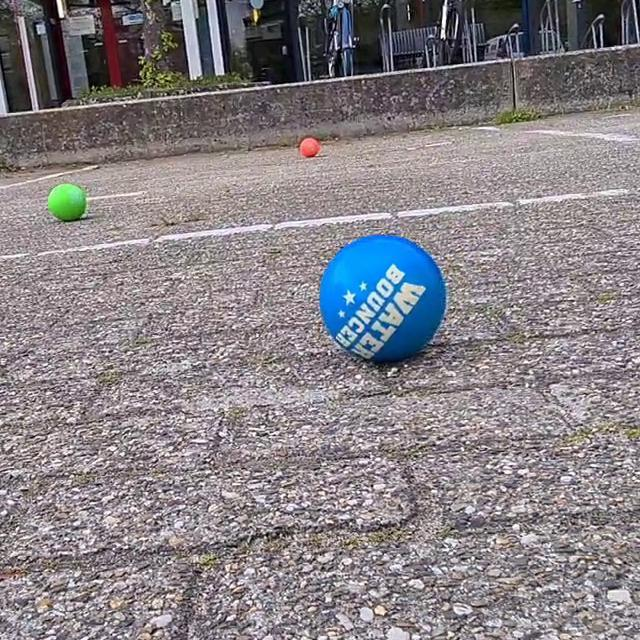ball: (45, 180, 87, 222), (298, 133, 320, 162)
